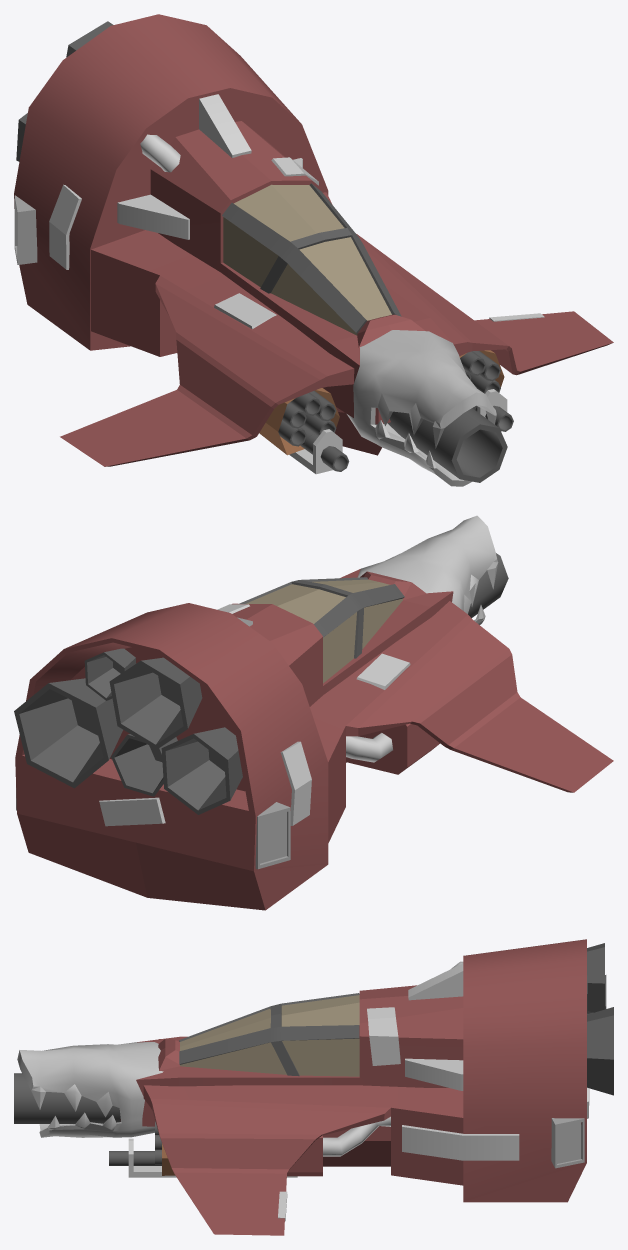
Rendered from Halk_Assault.fbx.
The picture shows the model from 3 angles, top to bottom: view 1: azimuth 30°, elevation 25°; view 2: azimuth 150°, elevation 25°; view 3: azimuth 270°, elevation 25°; orthographic projection. The views are drawn at different scales.
Visible parts, largest first — view 1: polySurface64; view 2: polySurface64; view 3: polySurface64.
Boxes of the visible parts, box(x1,y1,x2,y2) form: polySurface64: box(14, 14, 613, 486); polySurface64: box(14, 515, 613, 910); polySurface64: box(14, 939, 613, 1235).
Bounding box in the file's own units: 21.33 × 10.43 × 25.99.
